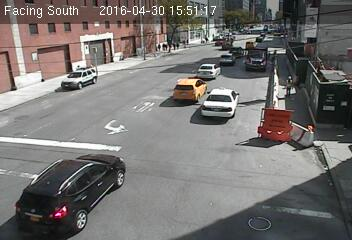neg: (84, 42, 105, 70), (326, 64, 347, 92), (312, 98, 331, 123), (310, 61, 328, 85), (67, 56, 81, 75), (300, 43, 314, 62), (108, 51, 121, 70), (132, 46, 144, 61), (138, 26, 149, 41), (156, 22, 162, 31)
pos: (280, 74, 299, 99), (156, 43, 163, 52), (171, 42, 177, 51), (176, 42, 182, 50), (164, 43, 169, 50)
